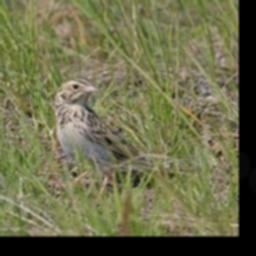Sparrow: (53, 75, 179, 205)
